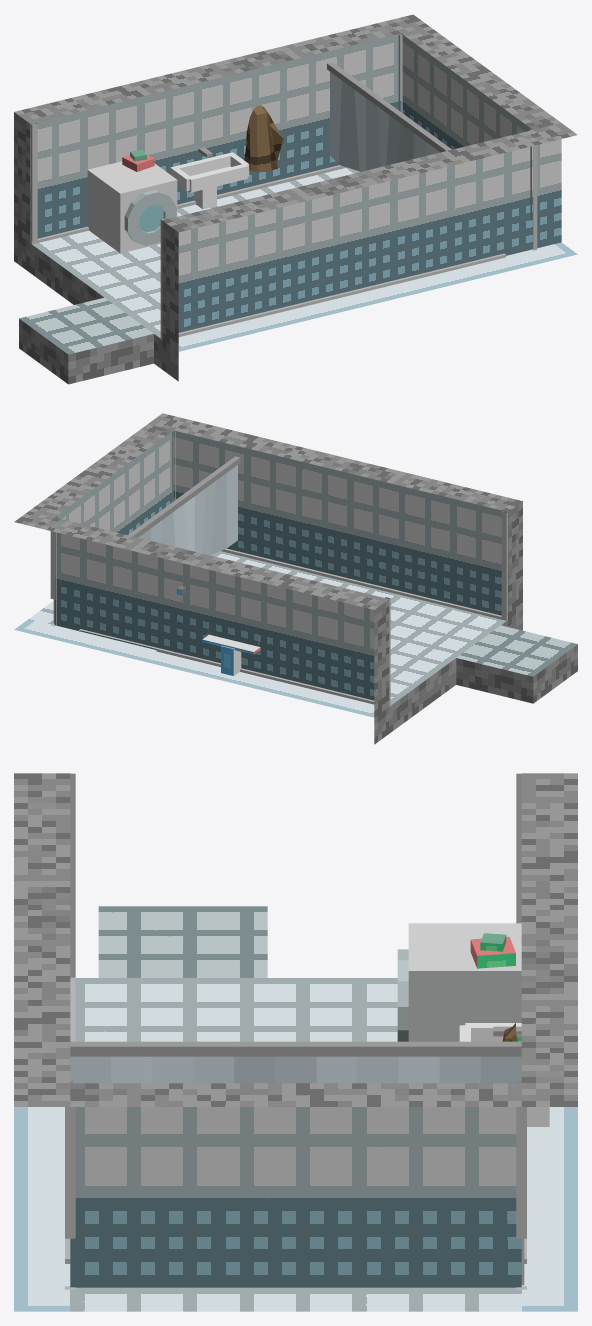
The model's file is bathroom.gltf.
3 views of the same model, one above another, from view 1: azimuth 30°, elevation 25°; view 2: azimuth 150°, elevation 25°; view 3: azimuth 270°, elevation 25° (orthographic). The views are drawn at different scales.
Parts seen in each view (by area): view 1: cuboid-col (×6), wall-col, enterance-col, plane-col (×2), cuboid (×5), tube-col, circle-col; view 2: cuboid-col (×5), wall-col, enterance-col, cuboid (×5), plane-col; view 3: cuboid-col (×4), wall-col, cuboid (×6), plane-col, enterance-col, tube-col.
Boxes of the visible parts, x1,y1,x2,y2 form: cuboid-col (×6): [14, 26, 577, 381]; wall-col: [14, 14, 429, 242]; enterance-col: [19, 297, 153, 384]; plane-col (×2): [244, 72, 439, 171]; cuboid (×5): [30, 62, 537, 336]; tube-col: [124, 190, 176, 245]; circle-col: [139, 204, 163, 232]; cuboid-col (×5): [14, 413, 522, 744]; wall-col: [14, 511, 389, 717]; enterance-col: [456, 625, 577, 703]; cuboid (×5): [50, 456, 507, 704]; plane-col: [138, 465, 237, 555]; cuboid-col (×4): [14, 773, 577, 1311]; wall-col: [521, 773, 577, 1106]; cuboid (×6): [65, 773, 526, 1289]; plane-col: [70, 1056, 521, 1083]; enterance-col: [98, 906, 267, 977]; tube-col: [397, 949, 408, 1041].
Size of what is drawn, in the model's own units: 1.06 by 0.3125 by 0.625.
1 material, 1 textured.
